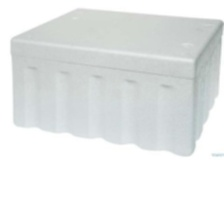foam_box: (6, 4, 223, 159)
